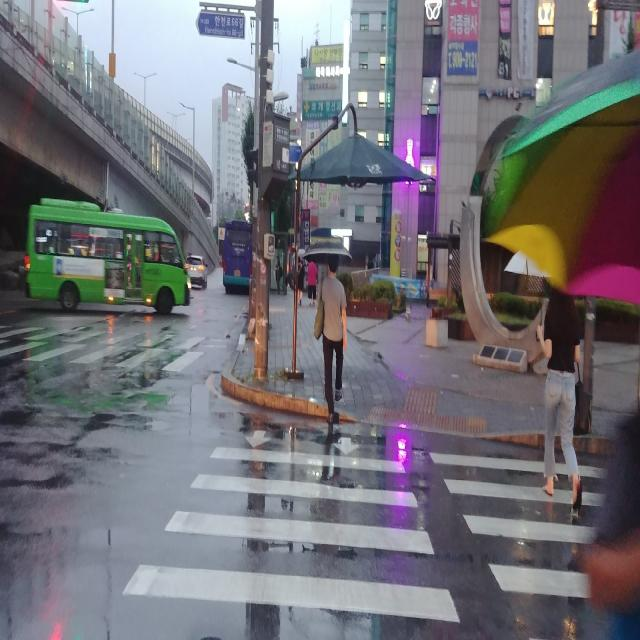횡단보도: (121, 427, 609, 627), (0, 318, 224, 376)
